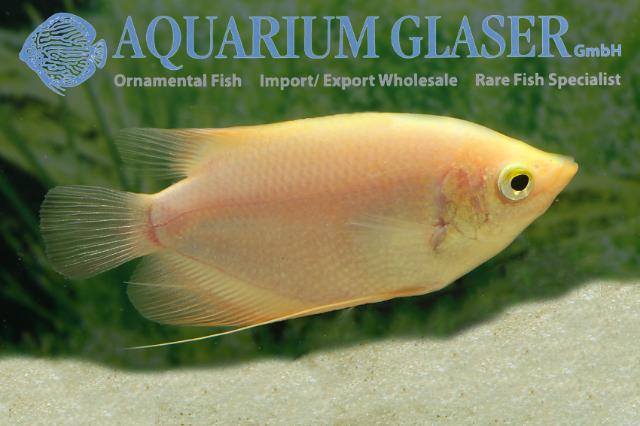Mulut: (507, 132, 591, 222)
Sirip Anal: (111, 242, 326, 344)
Sirip Dada: (320, 194, 468, 284)
Sirip Ekor: (24, 172, 174, 296)
Sirip Punggung: (101, 115, 319, 195)
